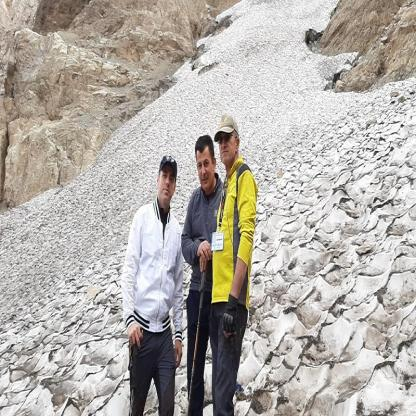person: (121, 121, 184, 406), (211, 91, 258, 415), (182, 115, 217, 415)
